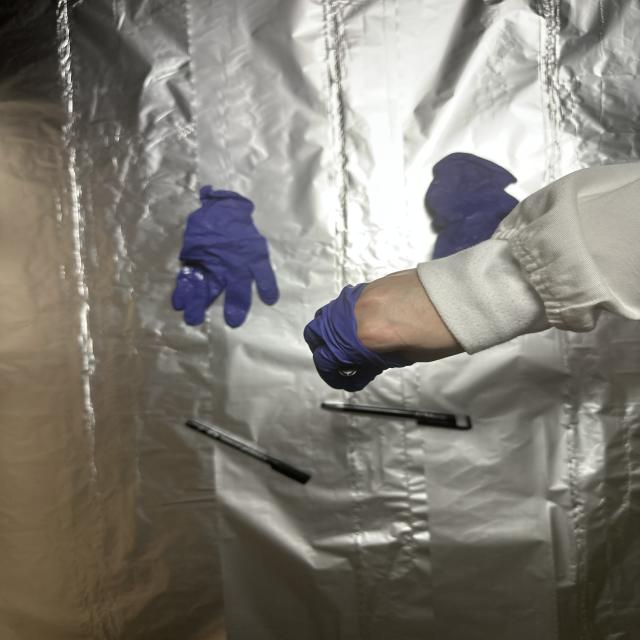glove_partial: (301, 266, 475, 391)
